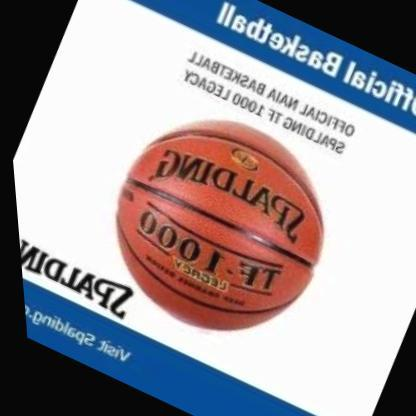basketball: (68, 83, 365, 363)
